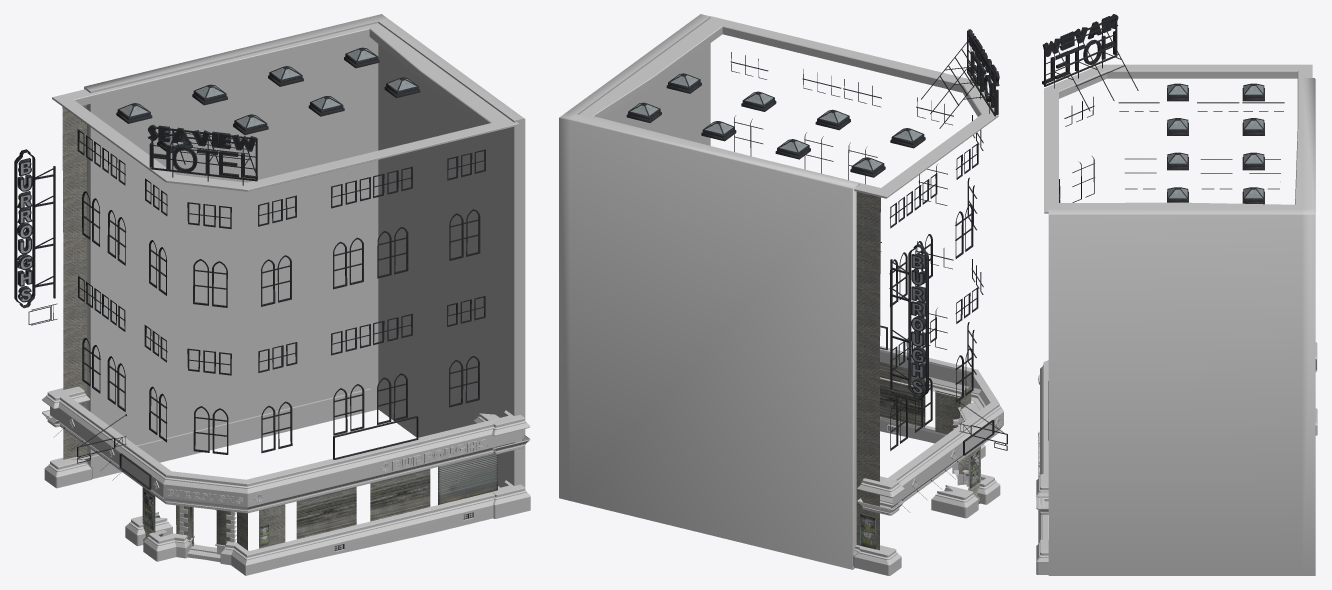
Rendered from u2NEBuild1.gltf.
The picture shows the model from 3 angles, left to right: view 1: azimuth 30°, elevation 25°; view 2: azimuth 150°, elevation 25°; view 3: azimuth 270°, elevation 25°; orthographic projection. The views are drawn at different scales.
Parts seen in each view (by area): view 1: u2NEBuild1; view 2: u2NEBuild1; view 3: u2NEBuild1.
Boxes of the visible parts, bbox=[...] form: u2NEBuild1: bbox=[14, 14, 530, 575]; u2NEBuild1: bbox=[559, 14, 1007, 575]; u2NEBuild1: bbox=[1036, 14, 1317, 575].
Bounding box in the file's own units: 9.36 × 10.3 × 6.43.
